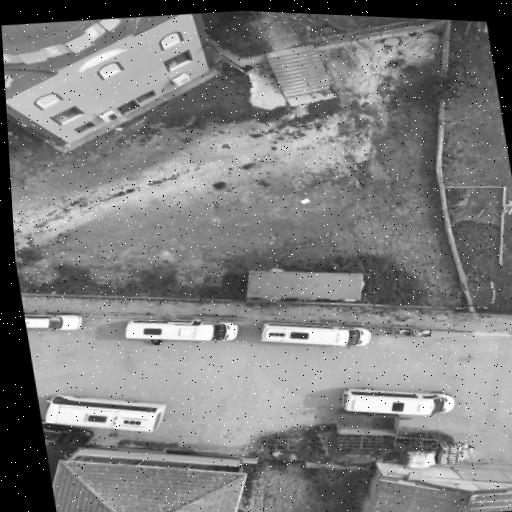bus: (43, 395, 165, 432), (261, 323, 370, 347), (125, 319, 238, 342)
car: (342, 386, 454, 415), (42, 422, 92, 445), (25, 314, 81, 330)
person: (150, 339, 161, 344)
